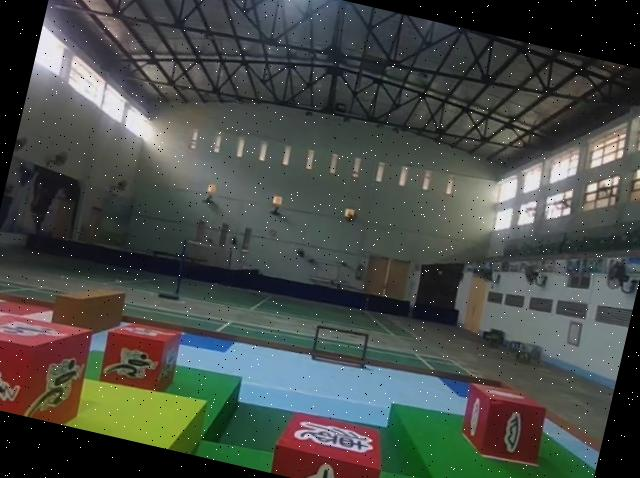R1: (0, 295, 99, 427), (93, 314, 184, 400)
R2 Fake: (262, 403, 392, 478)
R2 Real: (452, 375, 554, 470)
